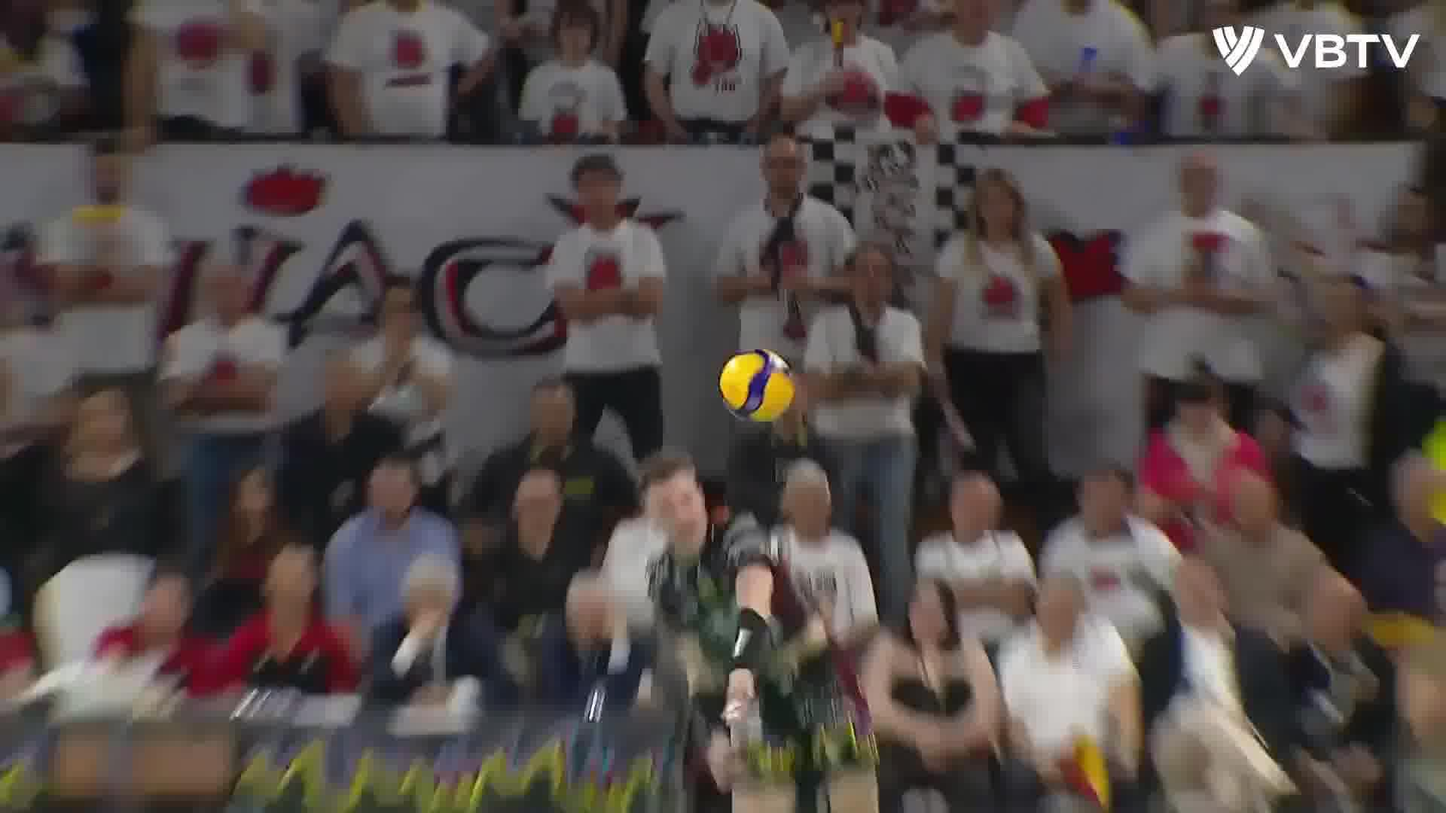balls: (717, 347, 798, 428)
